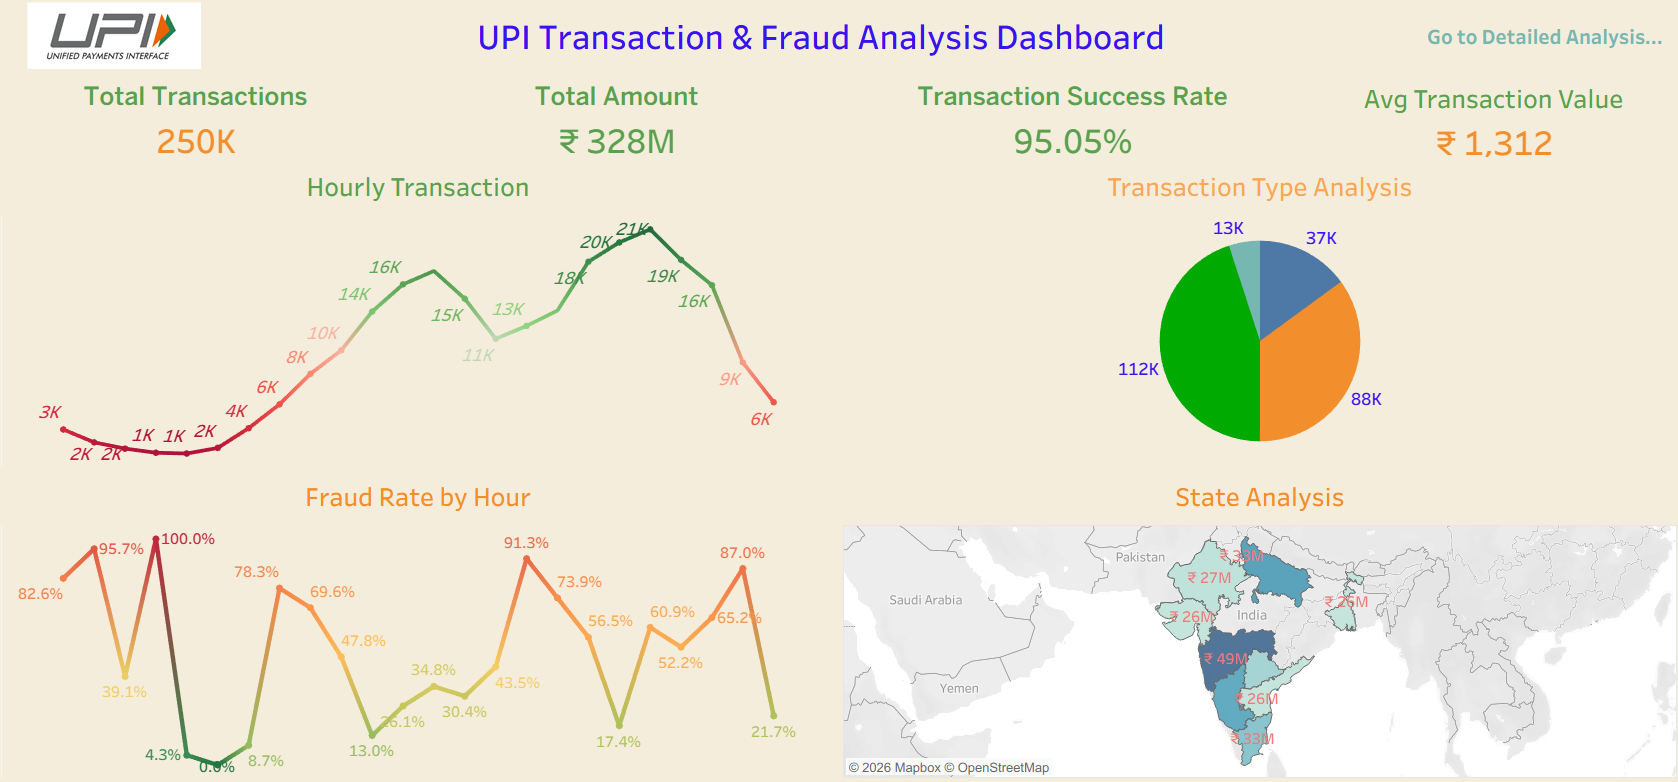

This screenshot's page, from the dashboard's own definition file:
{"tool":"tableau","page":{"name":"Dashboard 1","canvas":[1700,800],"ordinal":0},"visuals":[{"type":"image","param":"C:/Users/gptvi/Pictures/Screenshots/Screenshot 2026-04-21 180854.png","box":[8,8,235,75]},{"type":"text","box":[243,8,1178,75]},{"type":"dashboard-object","box":[1421,8,271,75]},{"type":"worksheet","title":"KPI 1","mark":"Automatic","box":[8,83,397,88]},{"type":"worksheet","title":"KPI 2","mark":"Automatic","box":[405,83,445,88]},{"type":"worksheet","title":"KPI 4","mark":"Automatic","box":[850,83,467,88]},{"type":"worksheet","title":"KPI 5","mark":"Automatic","box":[1317,83,375,88]},{"type":"worksheet","title":"Transactions by Hour","mark":"Line","rows":["transaction_id"],"cols":["hour_of_day"],"box":[8,171,842,310.5]},{"type":"worksheet","title":"Transaction Type Analysis","mark":"Pie","box":[850,171,842,310.5]},{"type":"worksheet","title":"Fraud Rate by Hour","mark":"Automatic","rows":["Calculation_1040894524898795520"],"cols":["hour_of_day"],"box":[8,481.5,842,310.5]},{"type":"worksheet","title":"State Analysis","mark":"Multipolygon","box":[850,481.5,842,310.5]}]}

Visuals, with their boxes in screenshot pixels (x1, y1, x2, y2), scaled from the page's 1700x800 canvas onto the 1678x782 screenshot:
image: bbox=[8, 8, 240, 81]
text: bbox=[240, 8, 1403, 81]
dashboard-object: bbox=[1403, 8, 1670, 81]
"KPI 1" worksheet: bbox=[8, 81, 400, 167]
"KPI 2" worksheet: bbox=[400, 81, 839, 167]
"KPI 4" worksheet: bbox=[839, 81, 1300, 167]
"KPI 5" worksheet: bbox=[1300, 81, 1670, 167]
"Transactions by Hour" worksheet (Line marks): bbox=[8, 167, 839, 471]
"Transaction Type Analysis" worksheet (Pie marks): bbox=[839, 167, 1670, 471]
"Fraud Rate by Hour" worksheet: bbox=[8, 471, 839, 774]
"State Analysis" worksheet (Multipolygon marks): bbox=[839, 471, 1670, 774]
